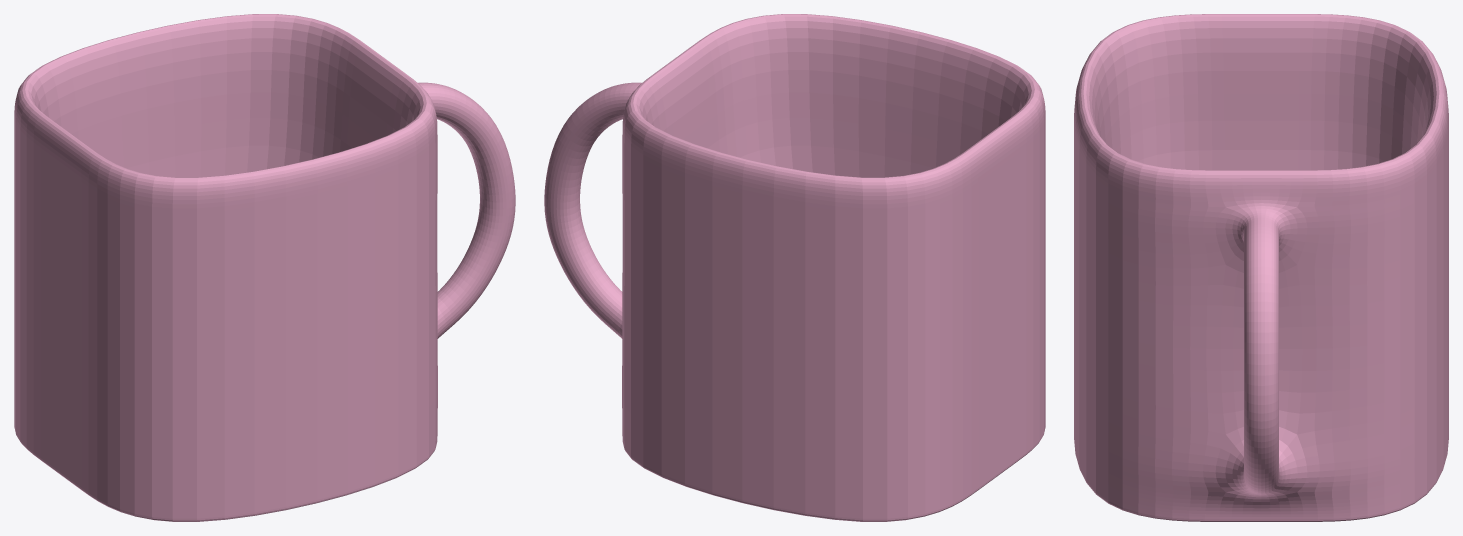
The model's file is mug.glb.
3 views of the same model, side by side, from view 1: azimuth 30°, elevation 25°; view 2: azimuth 150°, elevation 25°; view 3: azimuth 270°, elevation 25° (orthographic). The views are drawn at different scales.
Parts seen in each view (by area): view 1: Cube; view 2: Cube; view 3: Cube.
Boxes of the visible parts, x1,y1,x2,y2 form: Cube: (14,14,515,521); Cube: (544,14,1045,521); Cube: (1074,14,1448,521).
Size of the model in its own units: 2.74 by 1.98 by 1.92.
